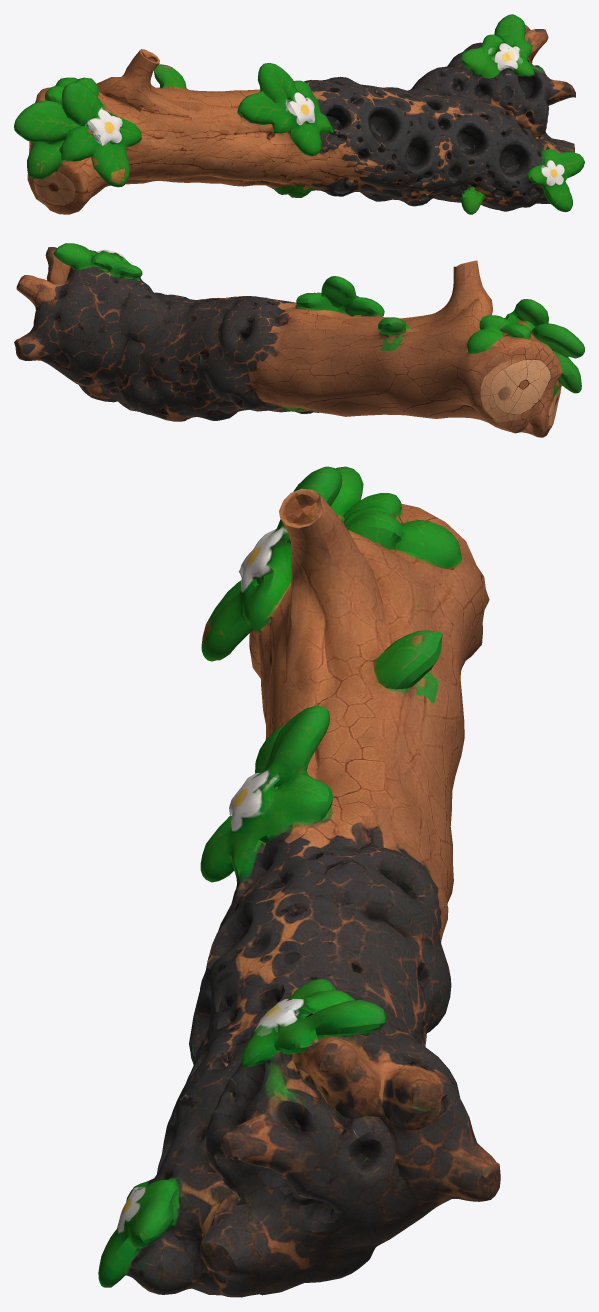
Rendered from wildwood-log.glb.
3 renders of one model, top to bottom at view 1: azimuth 30°, elevation 25°; view 2: azimuth 150°, elevation 25°; view 3: azimuth 270°, elevation 25°, orthographic. The views are drawn at different scales.
Visible parts, largest first — view 1: wildwood-log; view 2: wildwood-log; view 3: wildwood-log.
Boxes of the visible parts, <box> form: wildwood-log: <box>14,14,584,214</box>; wildwood-log: <box>14,243,584,437</box>; wildwood-log: <box>98,466,500,1297</box>.
Size of the model in its own units: 1.89 by 0.7805 by 0.6142.
Materials: 1 (1 with a texture image).
